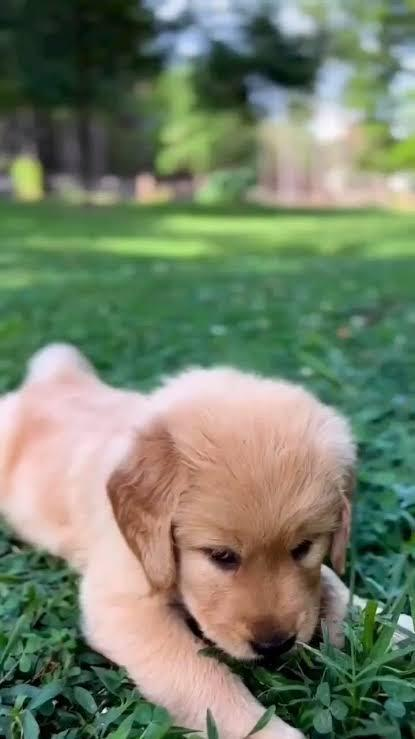puppy-dog: (1, 341, 358, 739)
